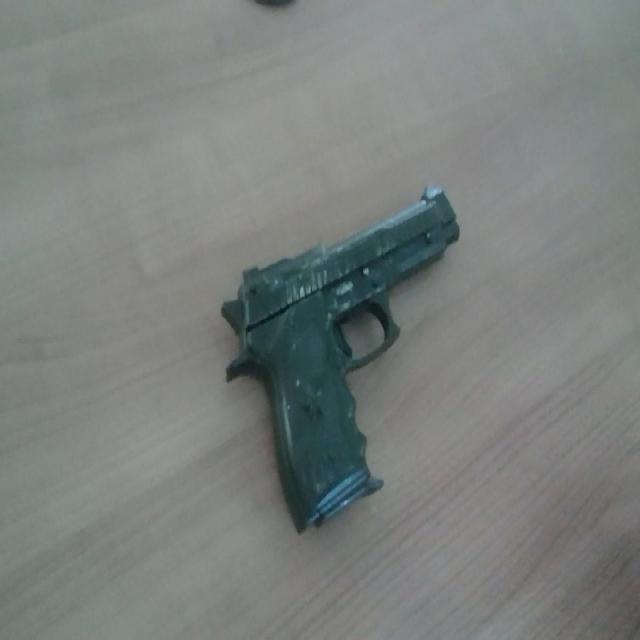handgun: (190, 152, 512, 590)
